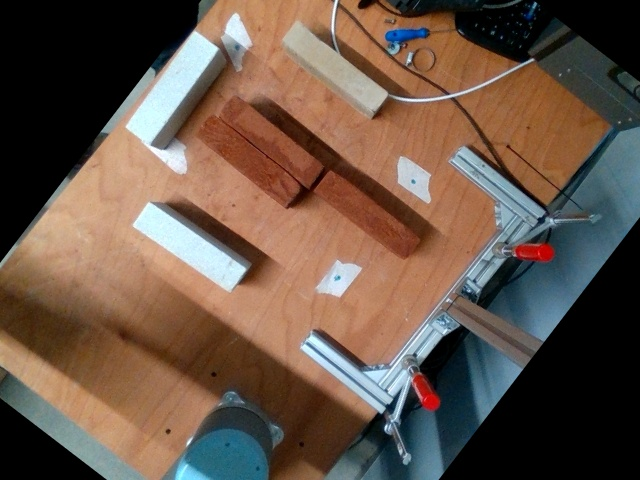brick-side: (131, 200, 246, 291), (217, 93, 327, 187), (127, 29, 218, 141), (194, 115, 302, 206), (282, 20, 389, 111), (314, 169, 420, 258)
